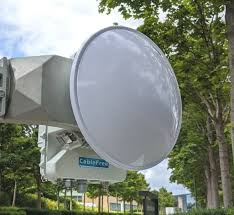ba: (54, 21, 189, 191)
